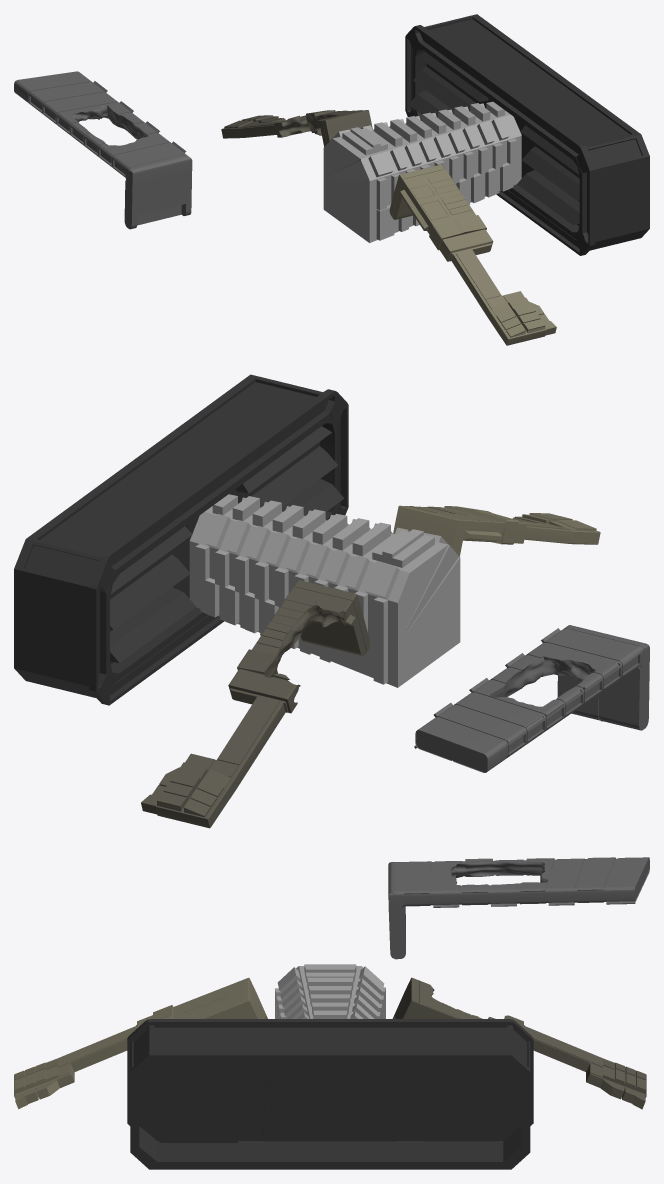
File: Wings_NotLeftFront.fbx
The picture shows the model from 3 angles, top to bottom: view 1: azimuth 30°, elevation 25°; view 2: azimuth 150°, elevation 25°; view 3: azimuth 270°, elevation 25°; orthographic projection. The views are drawn at different scales.
Visible parts, largest first — view 1: bigDaddyBooster, waist, wingWithHole, frontWing_r, booledWing; view 2: bigDaddyBooster, waist, wingWithHole, booledWing, frontWing_r; view 3: bigDaddyBooster, wingWithHole, frontWing_r, waist, booledWing.
Boxes of the visible parts, <box> form: bigDaddyBooster: <box>405,14,649,255</box>; waist: <box>323,101,521,242</box>; wingWithHole: <box>14,71,192,229</box>; frontWing_r: <box>389,164,556,345</box>; booledWing: <box>221,110,372,146</box>; bigDaddyBooster: <box>14,374,348,705</box>; waist: <box>189,494,460,687</box>; wingWithHole: <box>414,625,649,772</box>; booledWing: <box>141,580,369,828</box>; frontWing_r: <box>393,505,600,556</box>; bigDaddyBooster: <box>127,1019,533,1169</box>; wingWithHole: <box>388,857,649,959</box>; frontWing_r: <box>14,977,267,1109</box>; waist: <box>275,964,385,1018</box>; booledWing: <box>392,977,646,1109</box>.
Size of the model in its own units: 348 by 103 by 434.
